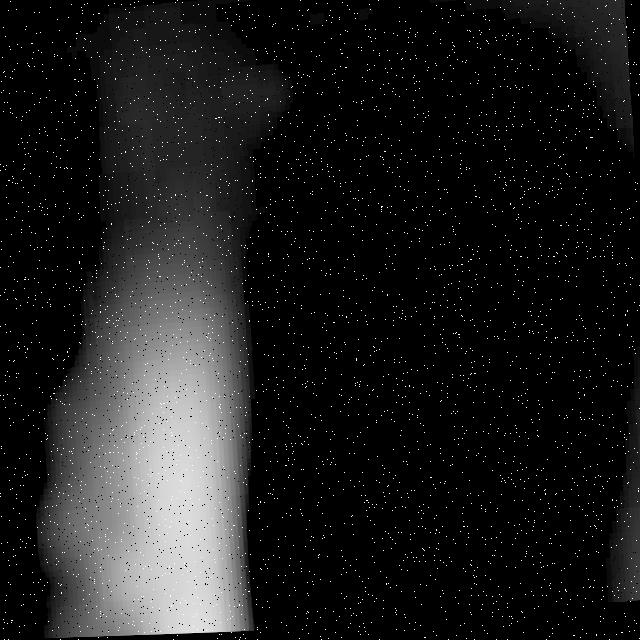person: (66, 240, 269, 639)
